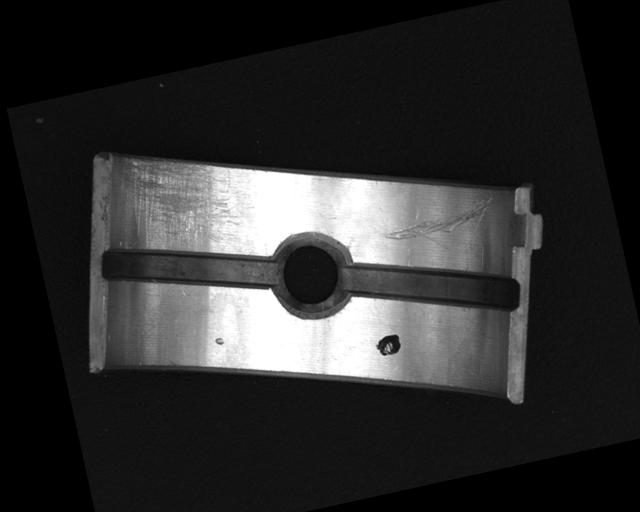blot: (373, 331, 404, 359)
bruise: (213, 336, 226, 346)
gap: (339, 229, 525, 347), (95, 215, 280, 321)
hole: (262, 225, 359, 322)
nick: (376, 196, 503, 267)
scratch: (116, 138, 245, 263)
